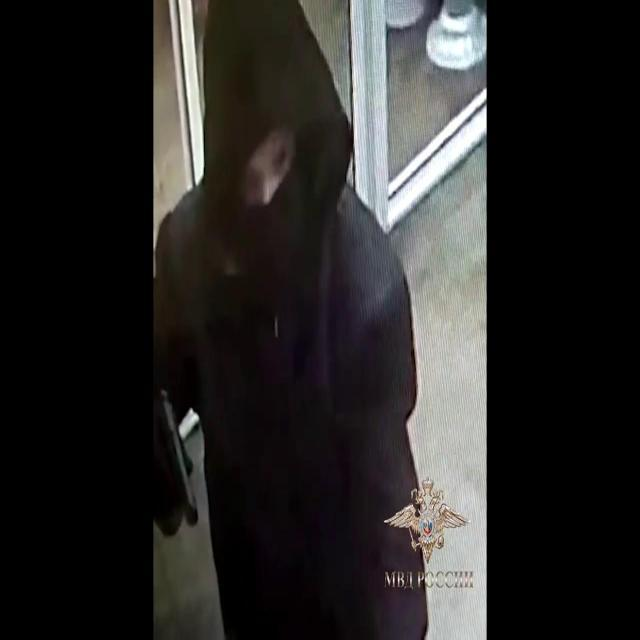pistol: (153, 381, 199, 538)
